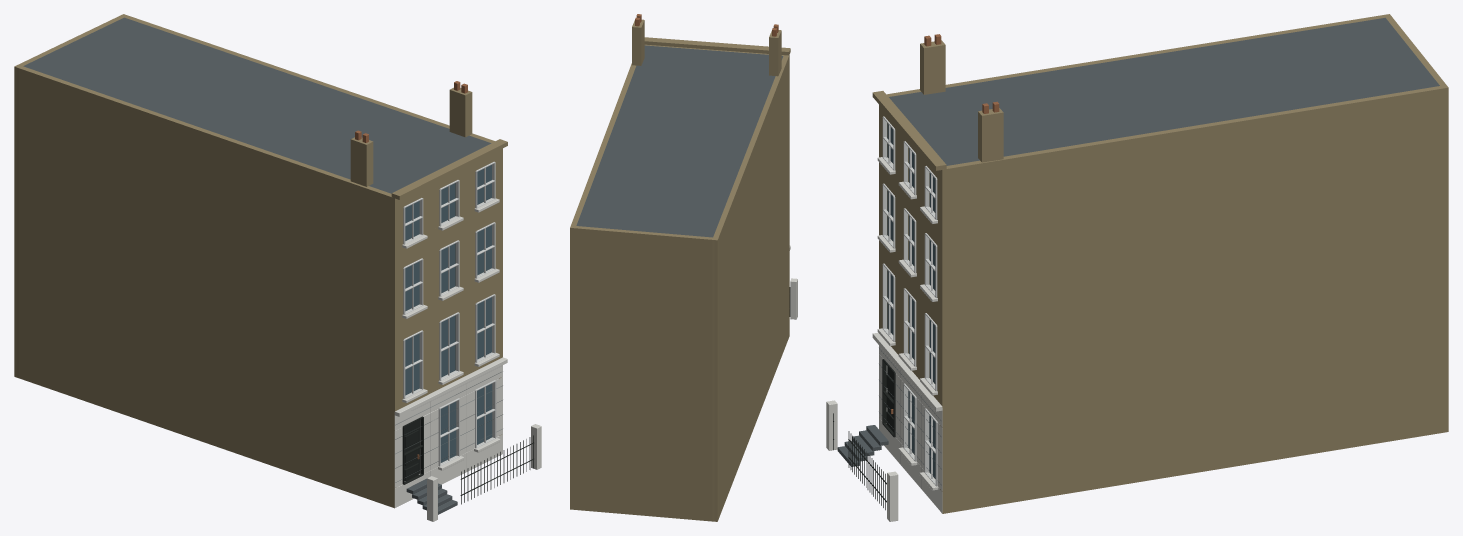
Rendered from 5lf-exterior-d2f15238c35d.glb.
The picture shows the model from 3 angles, left to right: view 1: azimuth 30°, elevation 25°; view 2: azimuth 150°, elevation 25°; view 3: azimuth 270°, elevation 25°; orthographic projection. The views are drawn at different scales.
Parts seen in each view (by area): view 1: 5LF.001; view 2: 5LF.001; view 3: 5LF.001.
Boxes of the visible parts, <box> form: 5LF.001: <box>14,14,541,521</box>; 5LF.001: <box>570,14,797,521</box>; 5LF.001: <box>826,14,1448,521</box>.
Size of the model in its own units: 14.28 by 16.23 by 22.93.
